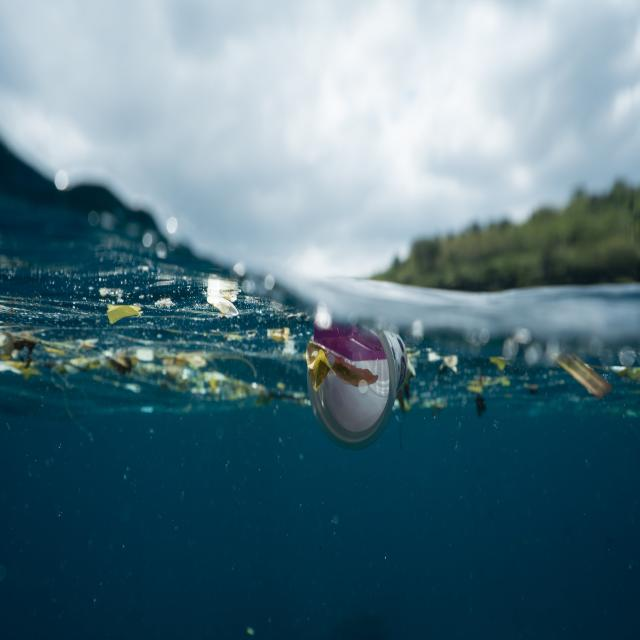metal: (308, 326, 409, 448)
